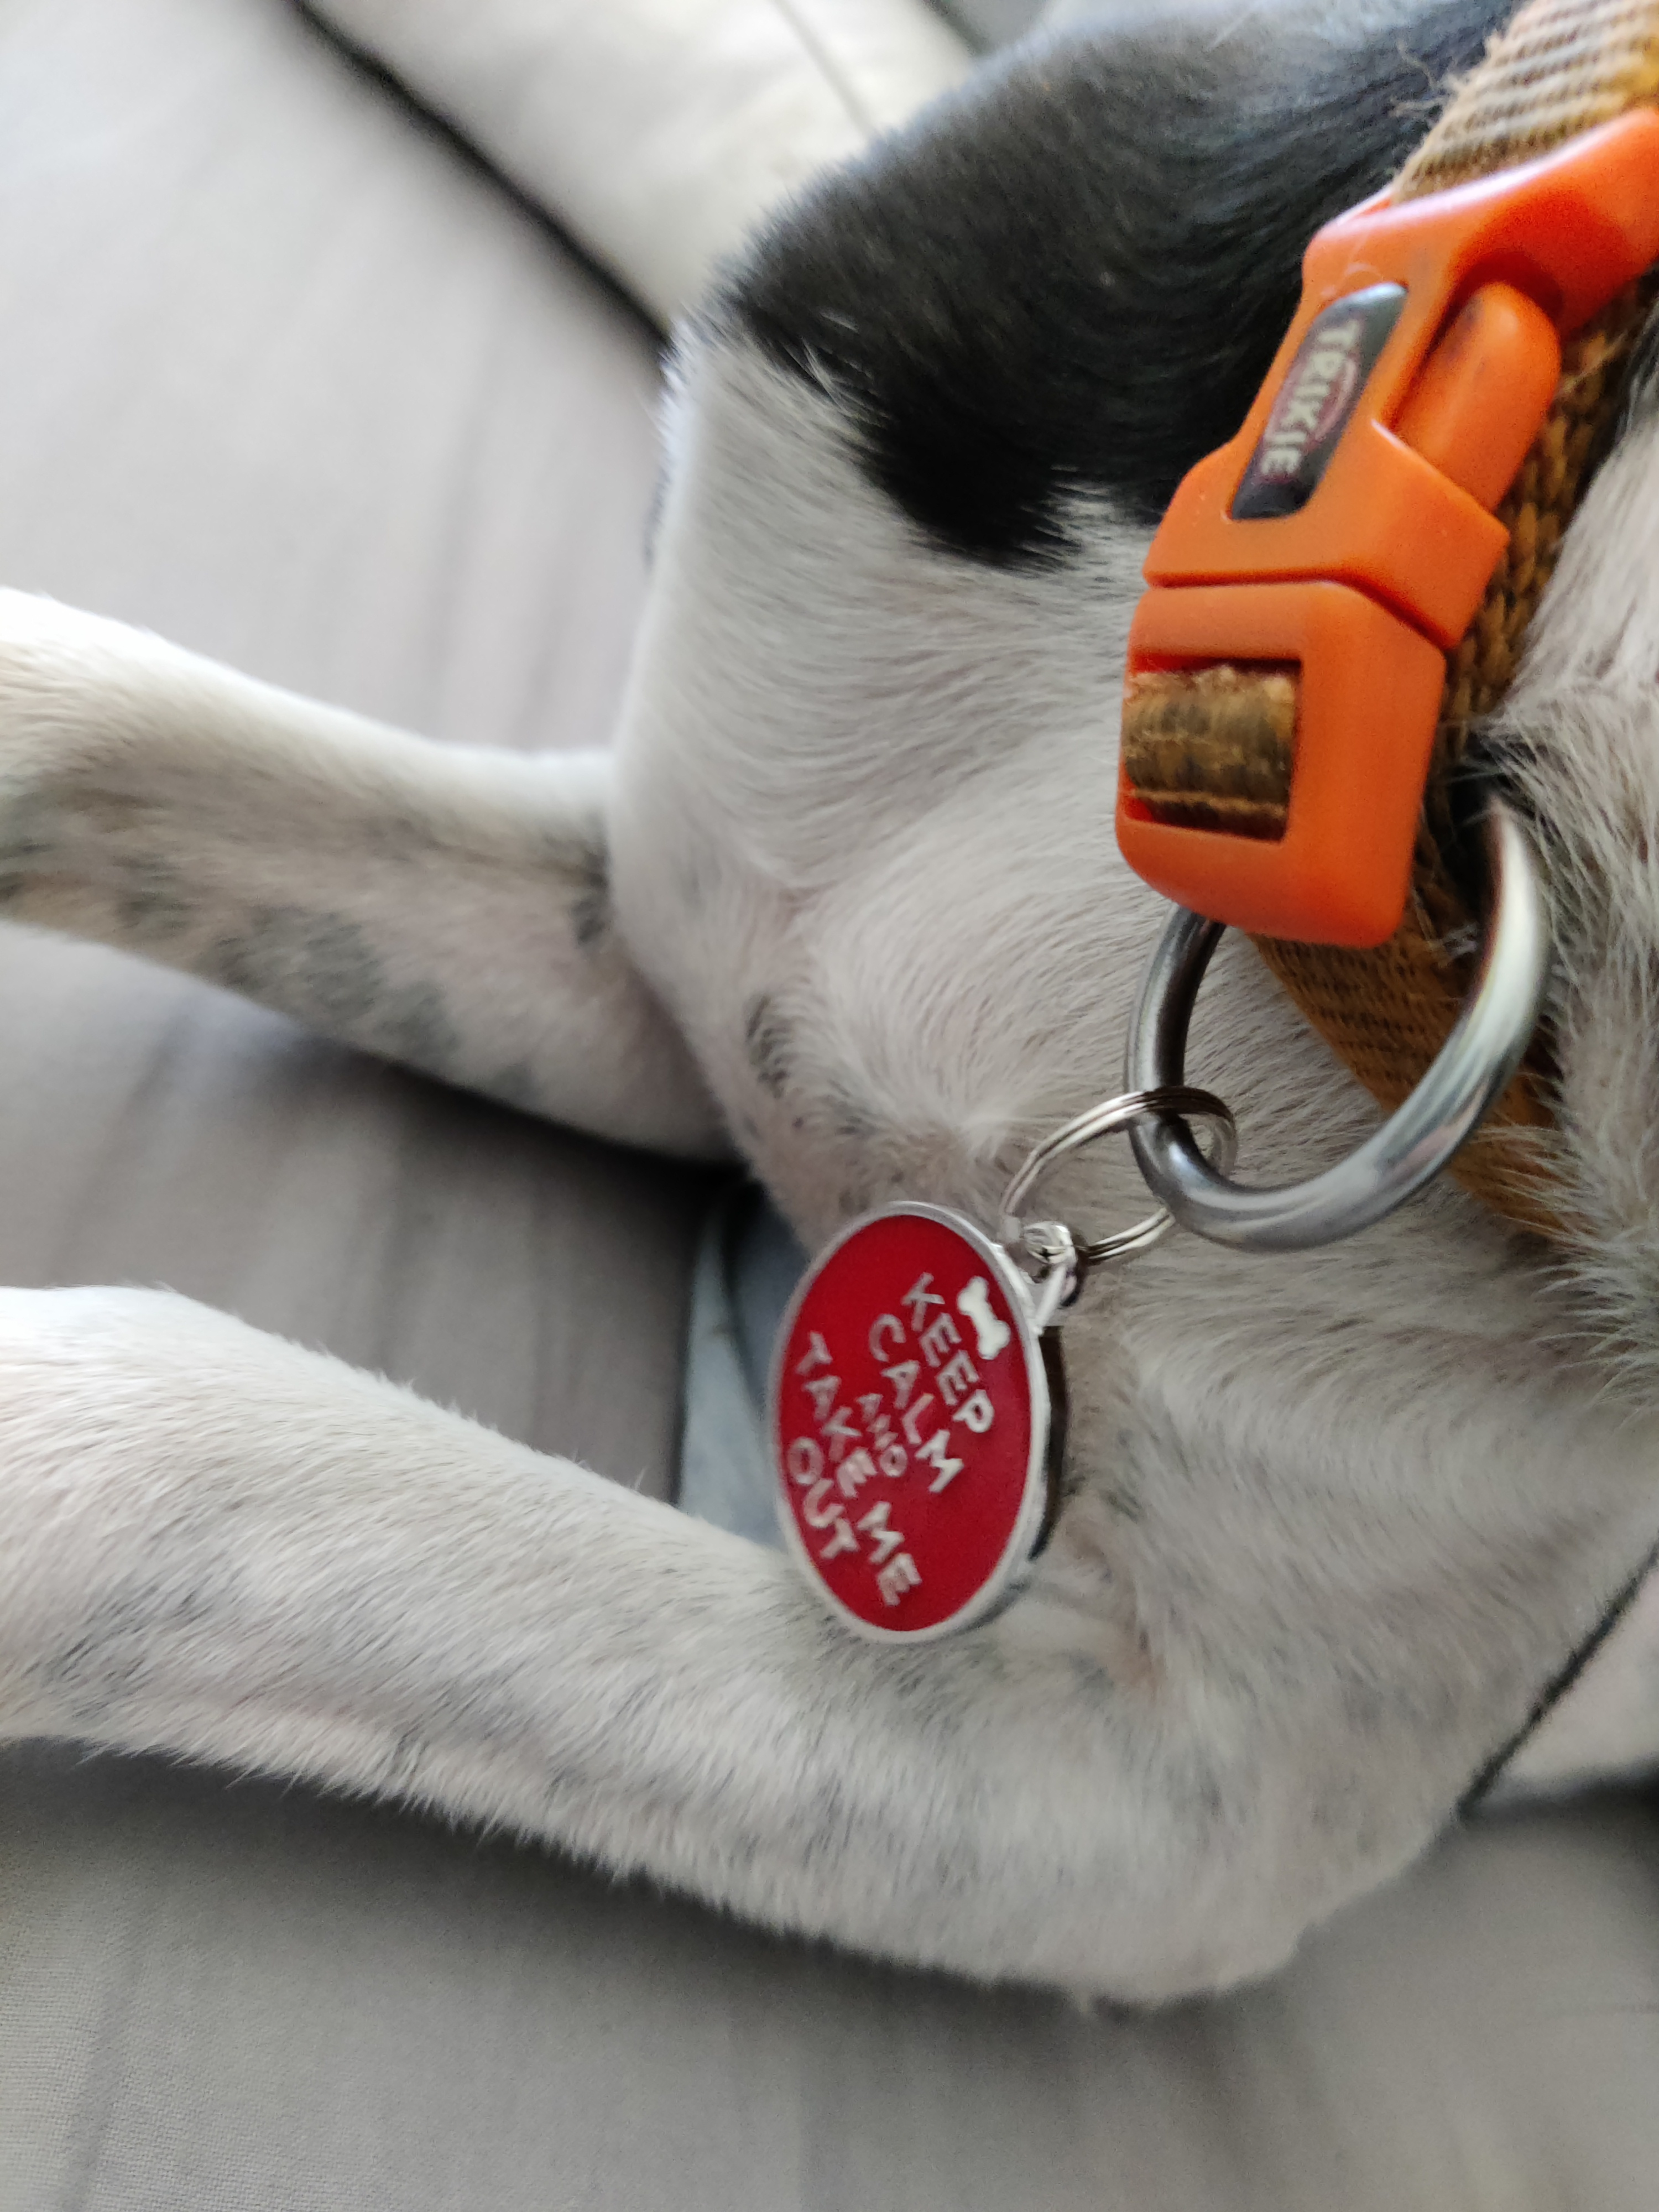Dog: (0, 0, 1659, 2076)
